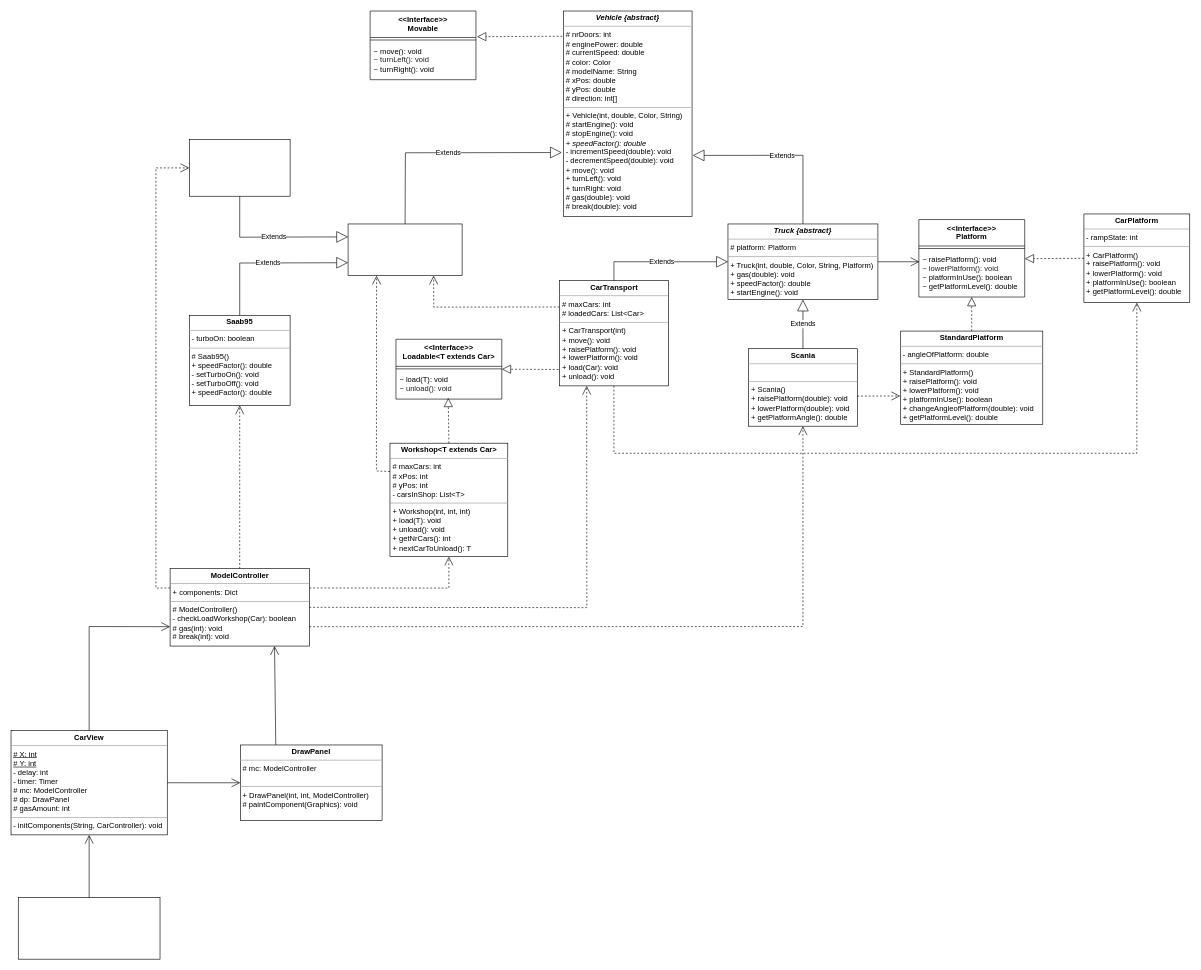
Some shapes in this 1201 by 970 pixel diagram are drawn without their labels. Here are the shapes that lost their labels. From the top down, the centre of each, then its label:
At [239,167]: "Volvo240 - trimFactor : double # Volvo240() + speedFactor(): double".
At [404,249]: "Car {abstract} + Car(int, doble, Color, String)".
At [89,928]: "Application # cw: CarView + main(String[]): void".
